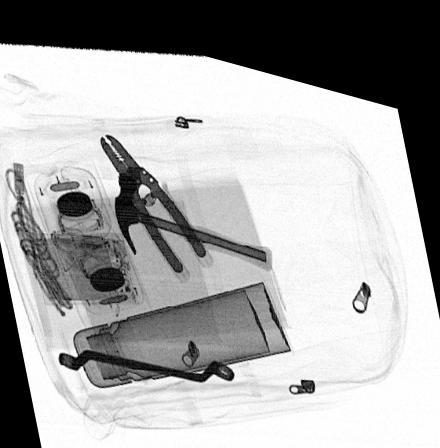Hammer: (113, 156, 272, 256)
Pliers: (100, 126, 212, 272)
Powerbank: (23, 224, 140, 301)
Wrench: (56, 343, 233, 371)
